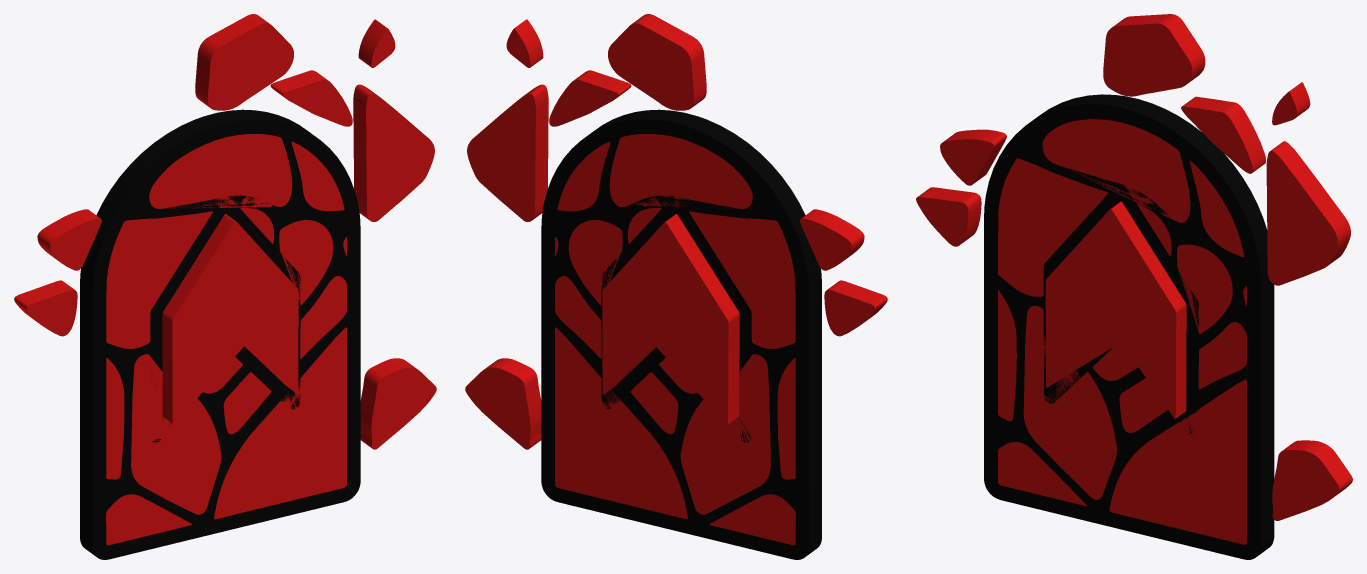
Rendered from M2ALL.fbx.
The picture shows the model from 3 angles, left to right: view 1: azimuth 30°, elevation 25°; view 2: azimuth 150°, elevation 25°; view 3: azimuth 330°, elevation 25°; orthographic projection. The views are drawn at different scales.
Parts seen in each view (by area): view 1: Fill_16, Fill_24, Fill_36, Fill_34, Fill_42, Fill_40, Fill_14, Fill_12, Fill_10, Fill_28, Fill_44, Fill_4 (+9 smaller); view 2: Fill_16, Fill_24, Fill_36, Fill_34, Fill_40, Fill_42, Fill_14, Fill_12, Fill_10, Fill_28, Fill_44, Fill_4 (+8 smaller); view 3: Fill_16, Fill_24, Fill_36, Fill_34, Fill_42, Fill_40, Fill_14, Fill_12, Fill_10, Fill_8, Fill_28, Fill_44 (+9 smaller).
Part boxes in pixels (<box>): Fill_16: <box>80,109,360,559</box>; Fill_24: <box>162,214,298,424</box>; Fill_36: <box>214,327,346,519</box>; Fill_34: <box>131,354,221,514</box>; Fill_42: <box>149,133,292,208</box>; Fill_40: <box>106,211,212,348</box>; Fill_14: <box>353,84,434,221</box>; Fill_12: <box>195,14,293,110</box>; Fill_10: <box>360,358,436,449</box>; Fill_28: <box>279,220,333,305</box>; Fill_44: <box>106,494,192,545</box>; Fill_4: <box>37,209,101,270</box>; Fill_16: <box>541,109,821,559</box>; Fill_24: <box>602,214,739,425</box>; Fill_36: <box>555,327,687,519</box>; Fill_34: <box>680,354,770,514</box>; Fill_40: <box>689,211,795,348</box>; Fill_42: <box>609,134,752,208</box>; Fill_14: <box>467,84,548,221</box>; Fill_12: <box>608,14,706,110</box>; Fill_10: <box>465,358,541,449</box>; Fill_28: <box>568,220,622,305</box>; Fill_44: <box>709,494,795,545</box>; Fill_4: <box>800,209,864,270</box>; Fill_16: <box>984,94,1274,559</box>; Fill_24: <box>1045,201,1186,419</box>; Fill_36: <box>1109,379,1246,544</box>; Fill_34: <box>1023,306,1116,499</box>; Fill_42: <box>1042,119,1190,222</box>; Fill_40: <box>998,158,1108,296</box>; Fill_14: <box>1266,141,1350,285</box>; Fill_12: <box>1103,14,1205,96</box>; Fill_10: <box>1272,440,1352,520</box>; Fill_8: <box>1181,96,1265,173</box>; Fill_28: <box>1177,244,1232,334</box>; Fill_44: <box>998,442,1086,506</box>.
Bounding box in the file's own units: 27.88 × 32.38 × 4.
